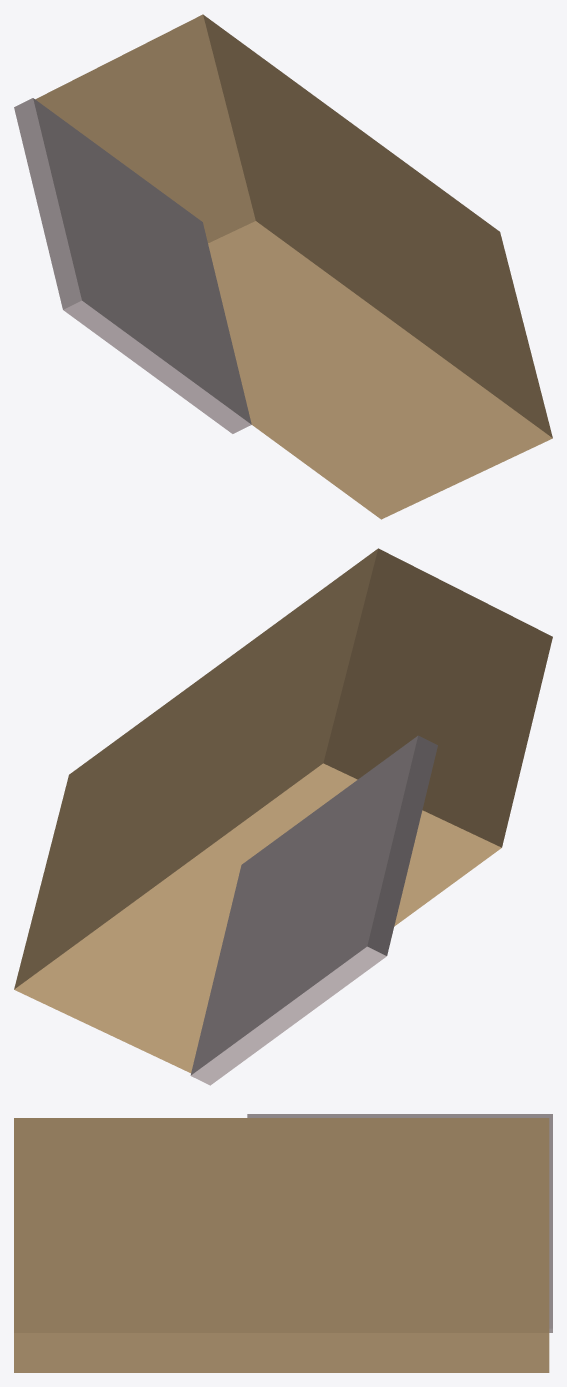
3 views of the same model, one above another, from view 1: azimuth 30°, elevation 25°; view 2: azimuth 150°, elevation 25°; view 3: azimuth 270°, elevation 25° (orthographic). The views are drawn at different scales.
Parts seen in each view (by area): view 1: 0_2_3_2_1_1_3_1_3_1_2; view 2: 0_2_3_2_1_1_3_1_3_1_2; view 3: 0_2_3_2_1_1_3_1_3_1_2.
Part boxes in pixels (x1,y1,x2,y2): 0_2_3_2_1_1_3_1_3_1_2: [14, 14, 552, 519]; 0_2_3_2_1_1_3_1_3_1_2: [14, 548, 552, 1085]; 0_2_3_2_1_1_3_1_3_1_2: [14, 1114, 552, 1372].
Size of the model in its own units: 9.78 by 10.27 by 21.15.
